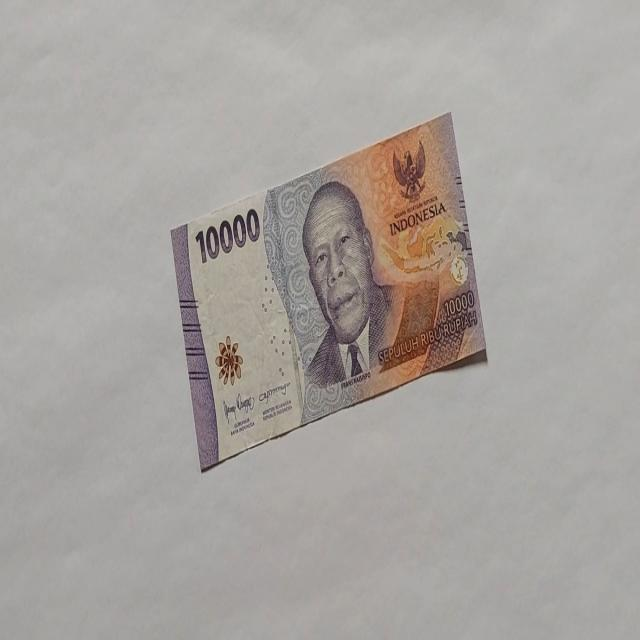sepuluh ribu rupiah: (170, 109, 488, 473), (300, 178, 390, 390)
